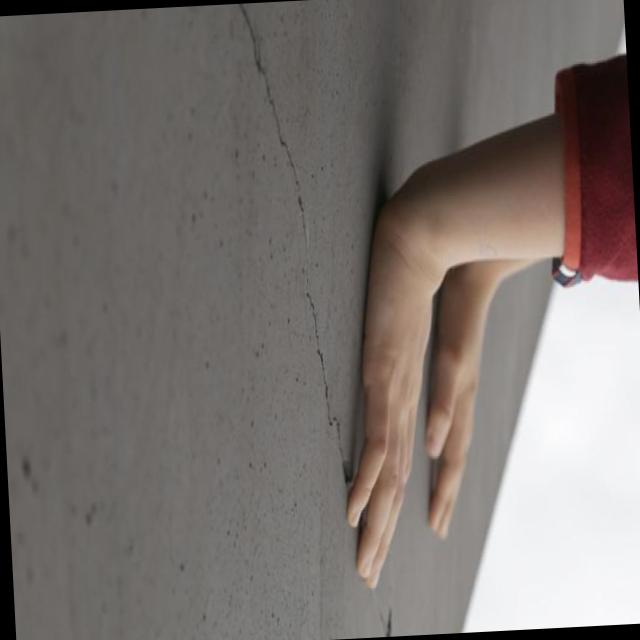crack: (242, 8, 310, 255), (304, 265, 356, 495)
